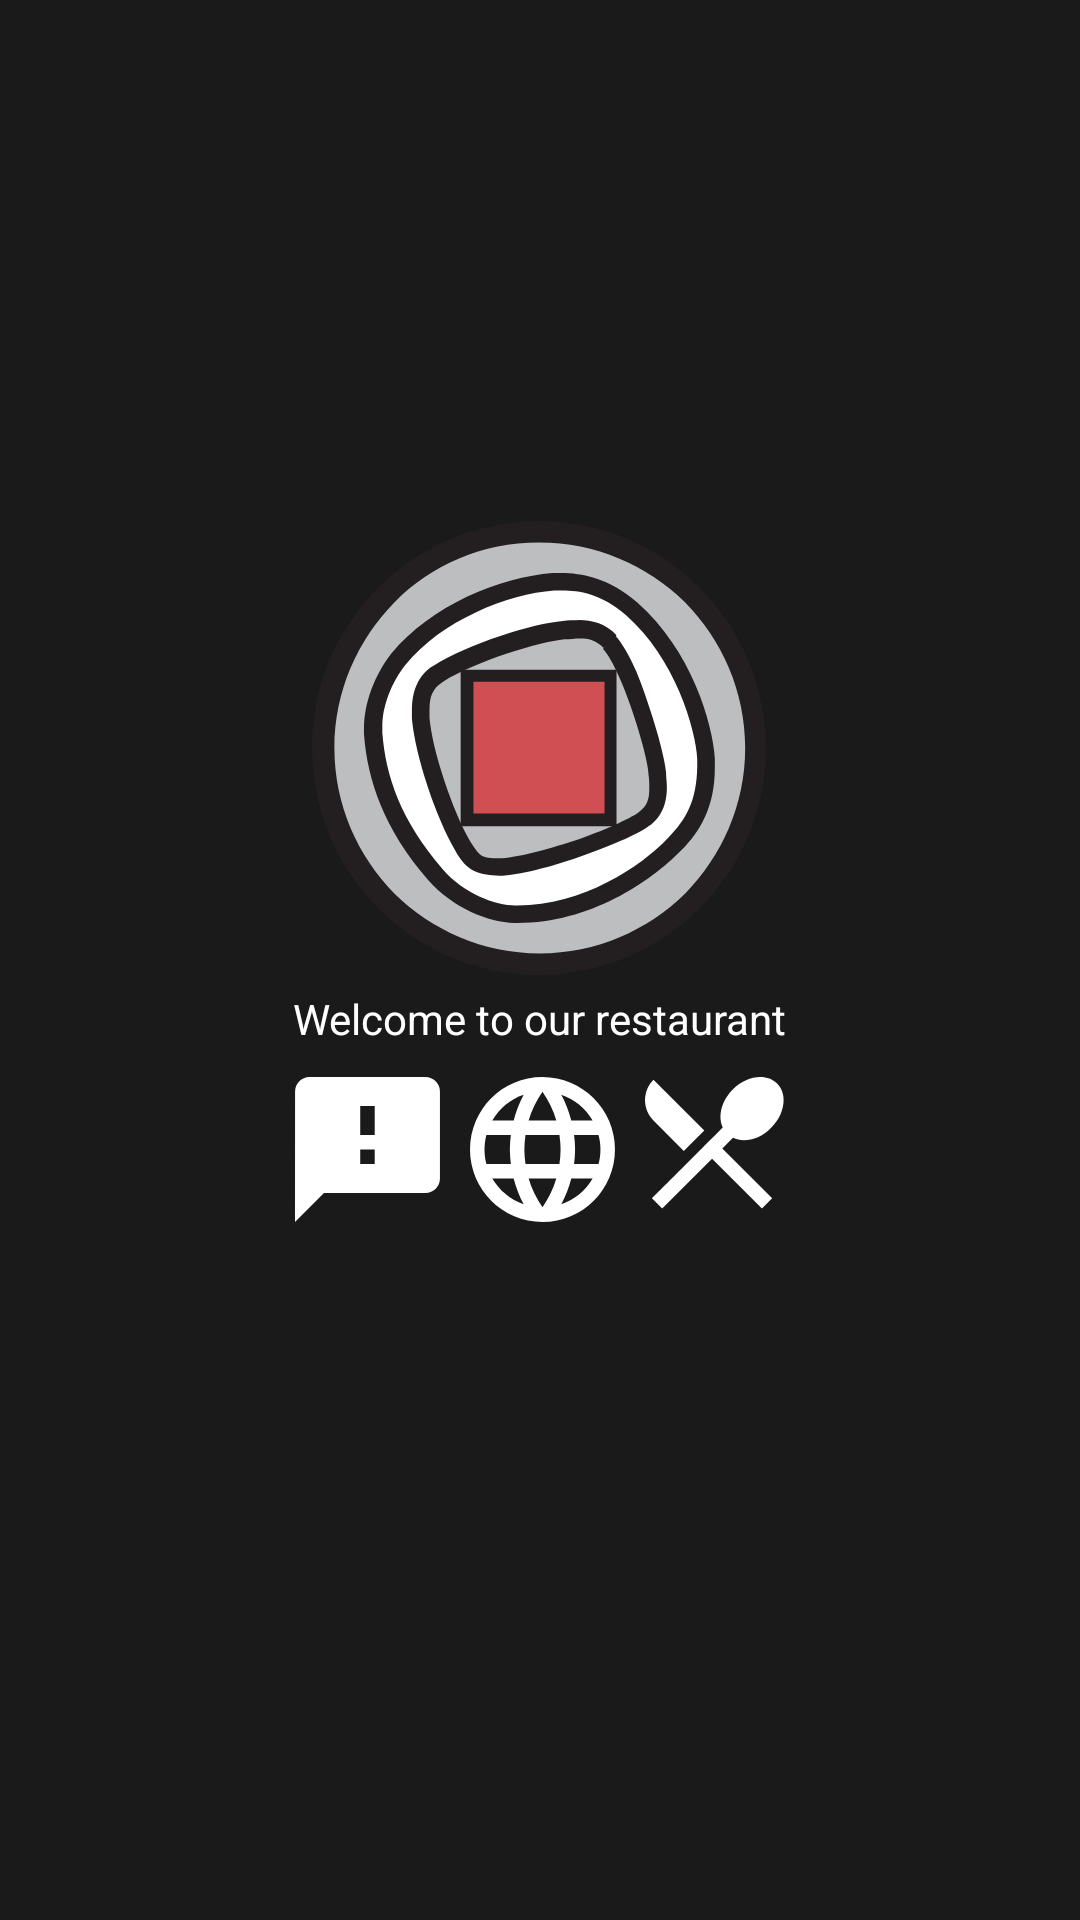

Icon click points for this 1080 × 1920 phone screenshot, format (x=x, y=y):
Feedback: (x=367, y=1149)
Language: (x=542, y=1149)
Menu: (x=714, y=1143)
